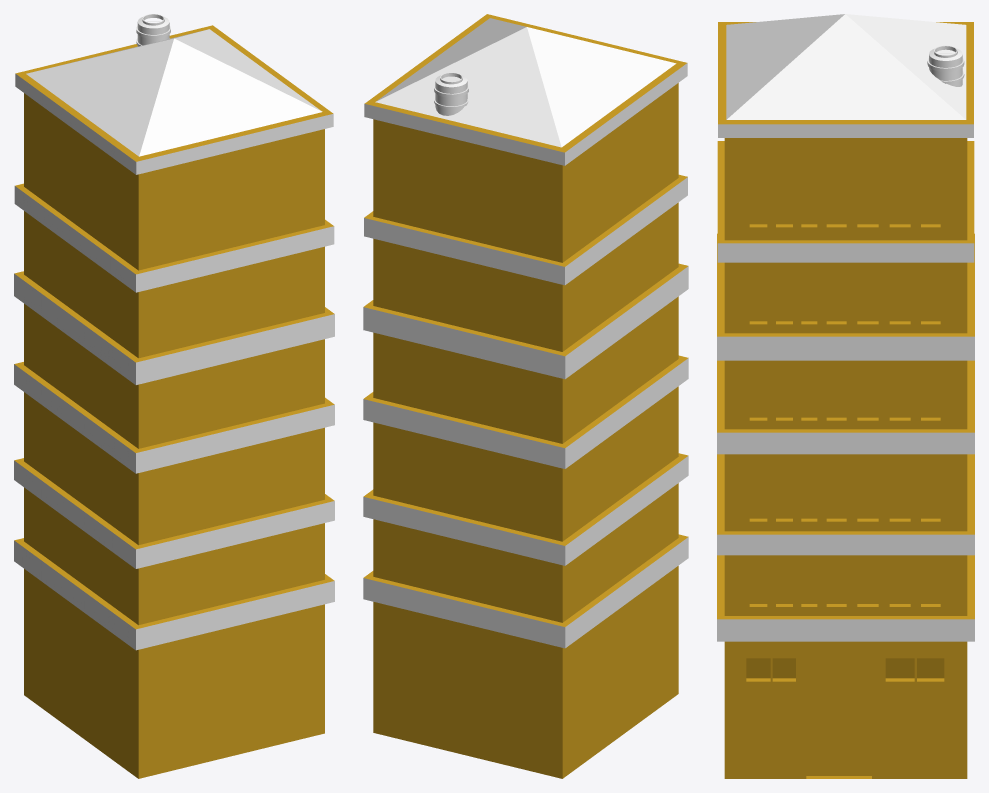
The model's file is Building_26_Yellow.glb.
3 renders of one model, left to right at view 1: azimuth 30°, elevation 25°; view 2: azimuth 150°, elevation 25°; view 3: azimuth 270°, elevation 25°, orthographic. The views are drawn at different scales.
Parts seen in each view (by area): view 1: pCube2; view 2: pCube2; view 3: pCube2.
Boxes of the visible parts, left/top/right/bottom form: pCube2: left=14, top=14, right=334, bottom=778; pCube2: left=363, top=14, right=688, bottom=778; pCube2: left=717, top=14, right=974, bottom=778.
Bounding box in the file's own units: 24.48 × 79.49 × 25.93.
